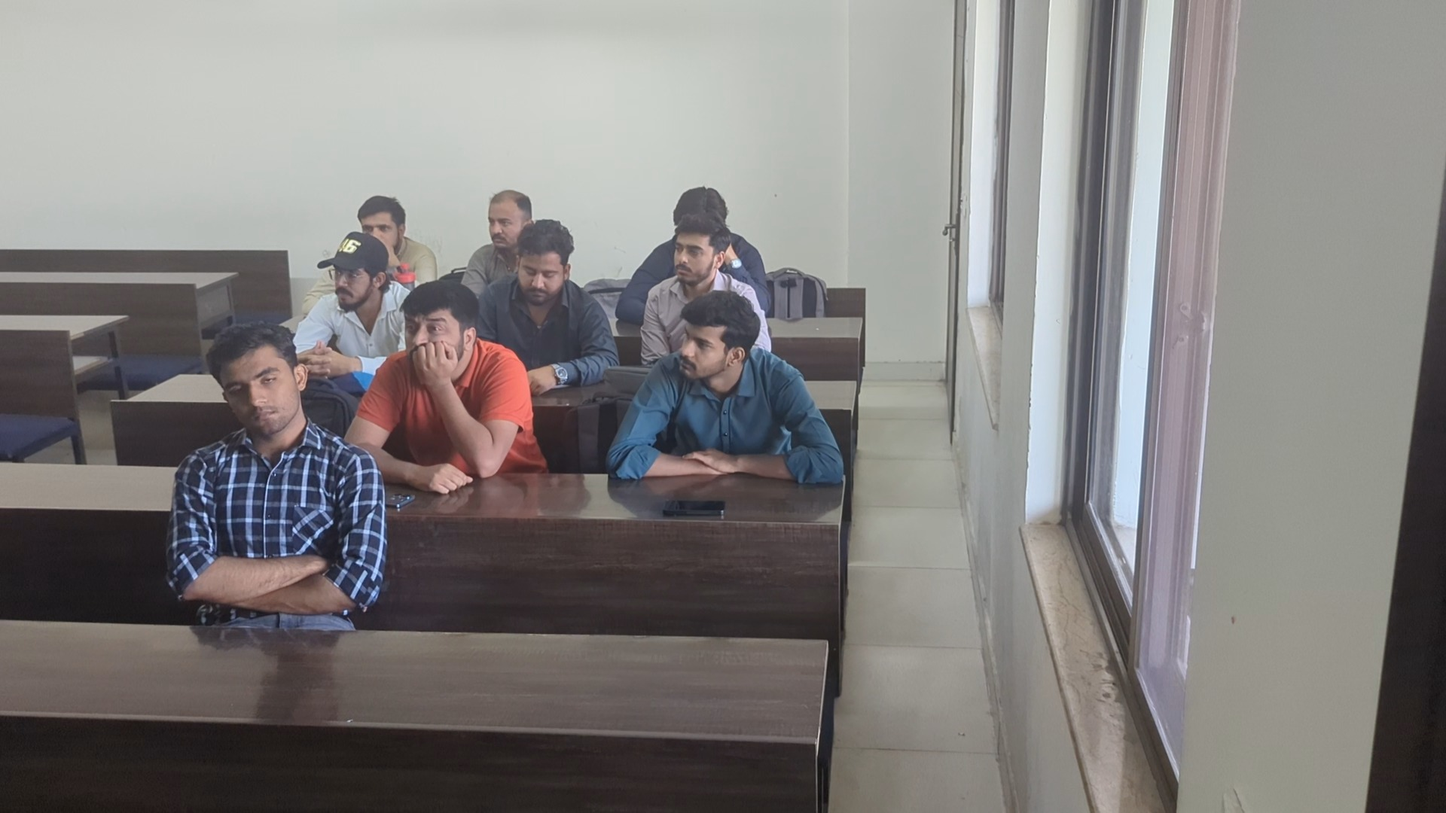look_forward: (169, 317, 379, 623), (615, 289, 836, 487), (352, 279, 545, 490), (299, 232, 395, 372), (642, 222, 756, 302), (469, 188, 529, 275)
read: (476, 216, 616, 400)
